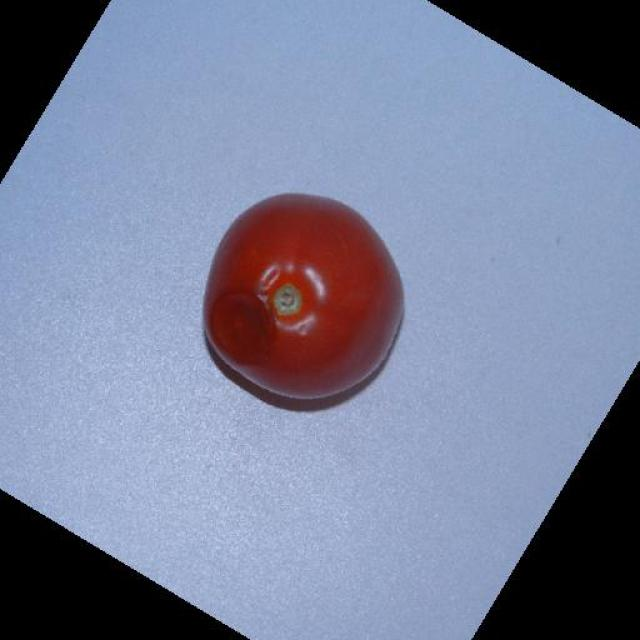Stale_tomato: (205, 269, 323, 403)
